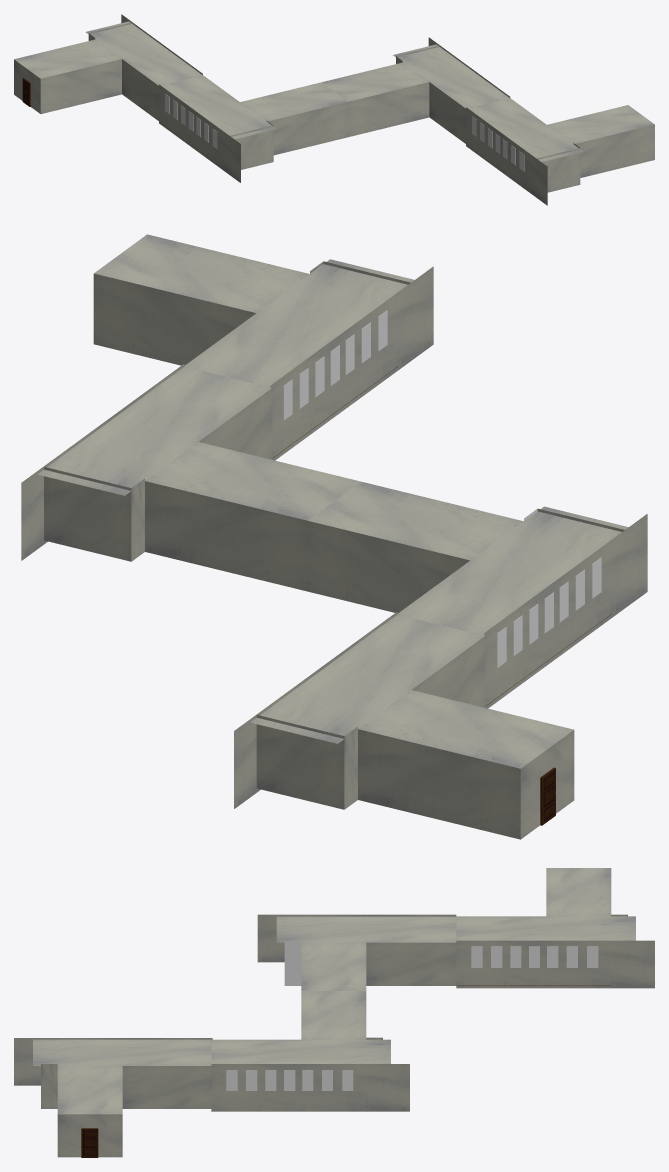
File: PT Levelend 1.fbx
The picture shows the model from 3 angles, top to bottom: view 1: azimuth 30°, elevation 25°; view 2: azimuth 150°, elevation 25°; view 3: azimuth 270°, elevation 25°; orthographic projection. The views are drawn at different scales.
Visible parts, largest first — view 1: Plane.033, Plane.011, Plane.030, Plane.009, Plane.014, Plane.037, Plane.036, Plane.031, Plane.005, Plane.026, Plane.034, Plane.012 (+9 smaller); view 2: Plane.033, Plane.011, Plane.030, Plane.009, Plane.038, Plane.015, Plane.031, Plane.036, Plane.027, Plane.006, Plane.012, Plane.034 (+13 smaller); view 3: Plane.032, Plane.010, Plane.030, Plane.009, Plane.033, Plane.011, Plane.028, Plane.007, Plane.012, Plane.034, Plane.029, Plane.008 (+8 smaller).
Part boxes in pixels (x1,y1,x2,y2): Plane.033: (85,21,202,85); Plane.011: (393,44,509,108); Plane.030: (161,75,276,139); Plane.009: (468,98,583,161); Plane.014: (348,82,429,137); Plane.037: (40,59,121,113); Plane.036: (466,107,547,205); Plane.031: (159,84,240,182); Plane.005: (575,124,654,177); Plane.026: (268,102,347,155); Plane.034: (14,39,121,78); Plane.012: (322,62,428,101); Plane.033: (250,614,484,743); Plane.011: (37,366,271,495); Plane.030: (397,506,628,635); Plane.009: (184,259,414,387); Plane.038: (358,729,520,839); Plane.015: (145,481,307,591); Plane.031: (485,514,647,708); Plane.036: (271,267,433,460); Plane.027: (307,521,469,613); Plane.006: (93,273,255,365); Plane.012: (145,442,360,520); Plane.034: (358,690,573,768); Plane.032: (456,941,654,988); Plane.010: (211,1064,409,1111); Plane.030: (276,916,456,942); Plane.009: (33,1039,212,1065); Plane.033: (456,916,635,940); Plane.011: (211,1039,390,1063); Plane.028: (366,942,456,985); Plane.007: (122,1066,212,1108); Plane.012: (301,991,366,1039); Plane.034: (546,868,611,916); Plane.029: (301,942,366,990); Plane.008: (57,1066,122,1114).
Size of the model in its own units: 38421 by 3443 by 42084.
Materials: 27 (15 with a texture image).
